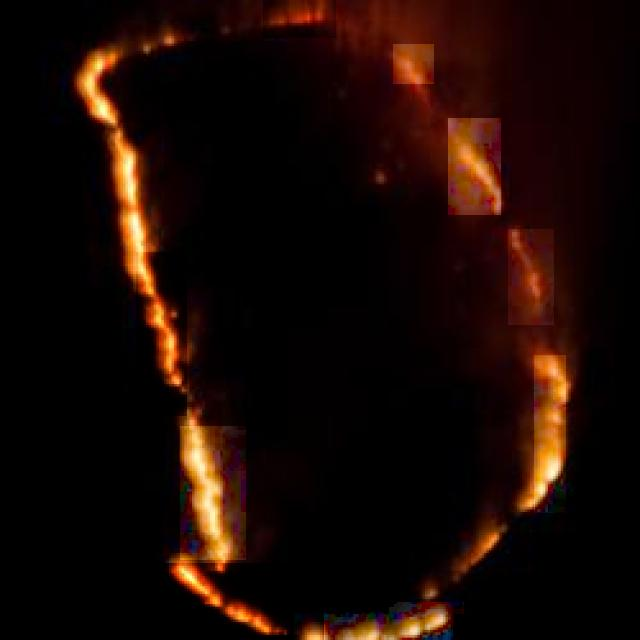Fire: (76, 58, 161, 243), (153, 563, 294, 640), (180, 426, 246, 560), (136, 253, 187, 417), (324, 602, 464, 640), (448, 118, 501, 215), (534, 355, 566, 513), (508, 230, 554, 326), (442, 518, 514, 576), (263, 1, 336, 38), (393, 44, 434, 84)
